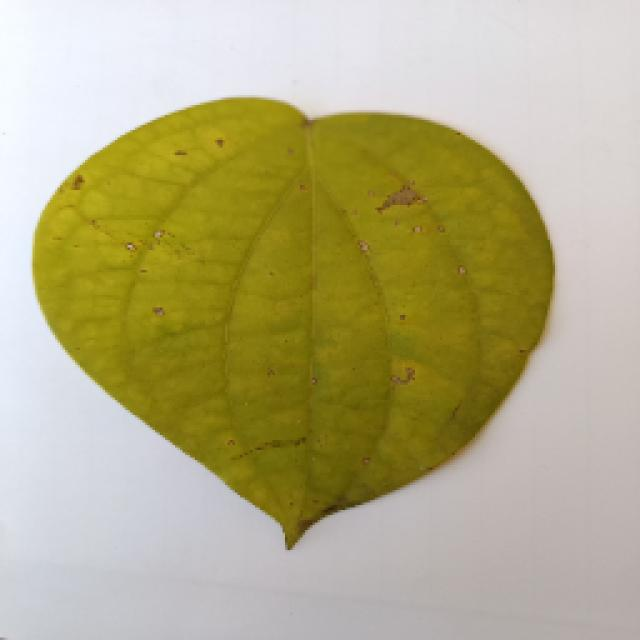slow-decline: (17, 98, 565, 558)
